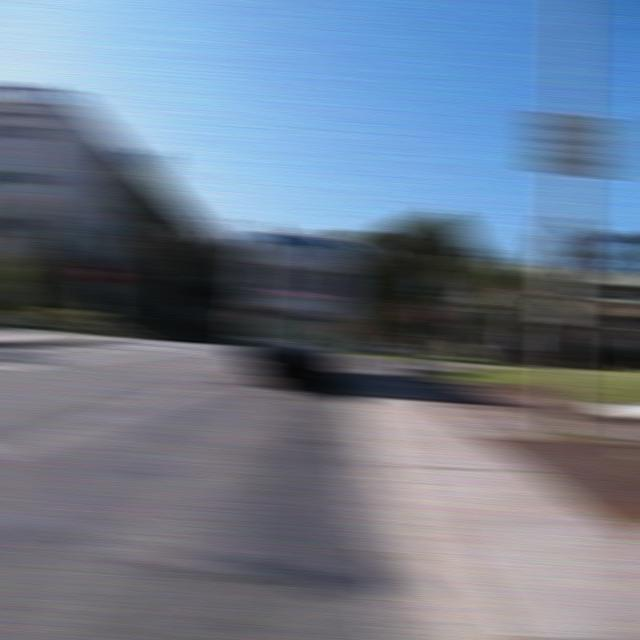stop: (402, 299, 440, 326), (81, 261, 118, 284)
